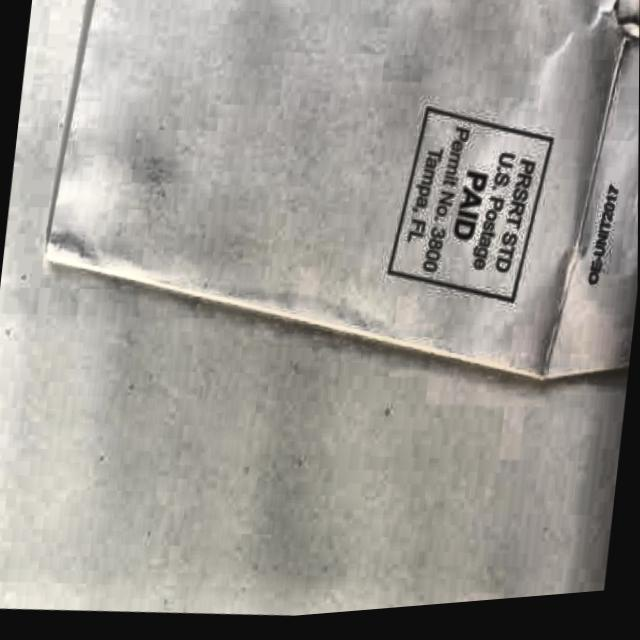Paper: (23, 0, 640, 459)
